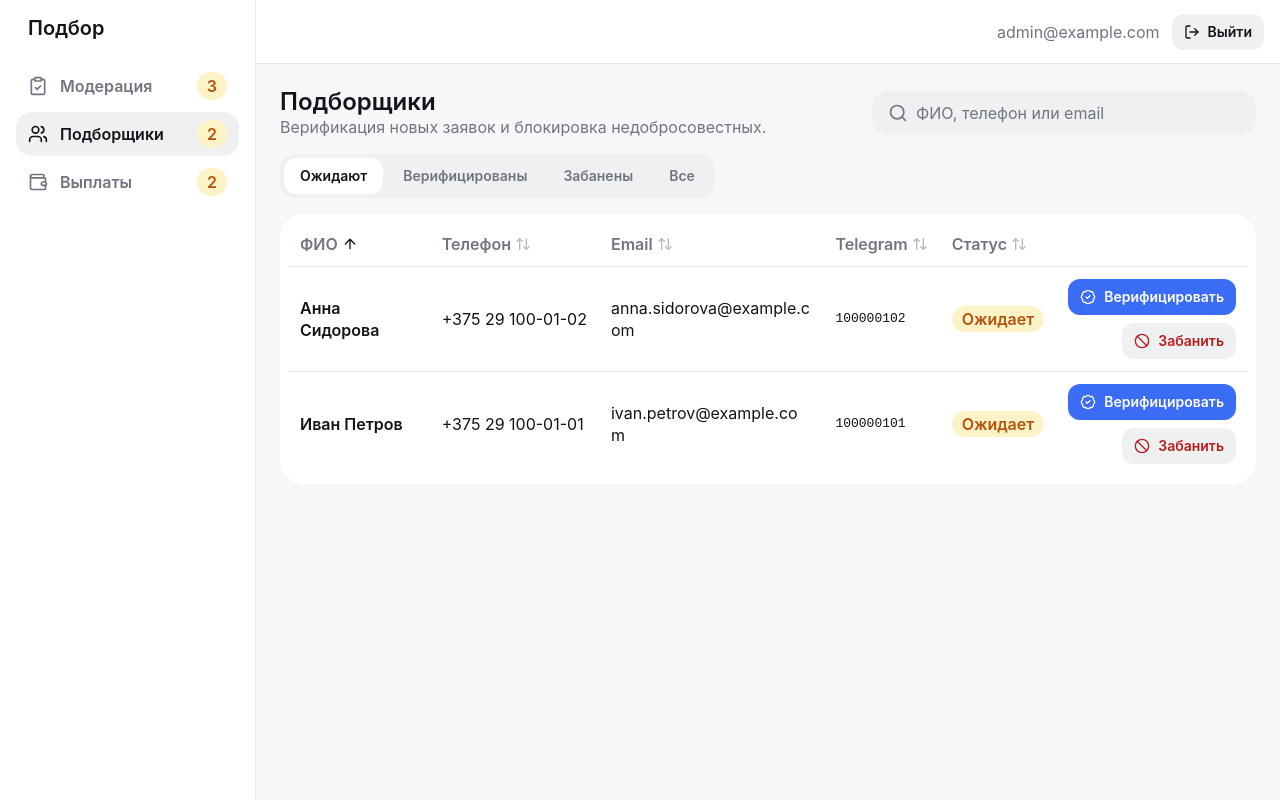
Test case: верификация › диалог с ФИО и телефоном → 200 → запись уходит из «Ожидают», счётчик в меню уменьшается, тост
The image size is (1280, 800).
Expected: the text with test id "nav-count" reads "2", left=207, top=124, right=217, bottom=144
Click the button "Верифицировать" in the row of "Иван Петров" at [1152, 402], box left=1068, top=384, right=1236, bottom=420
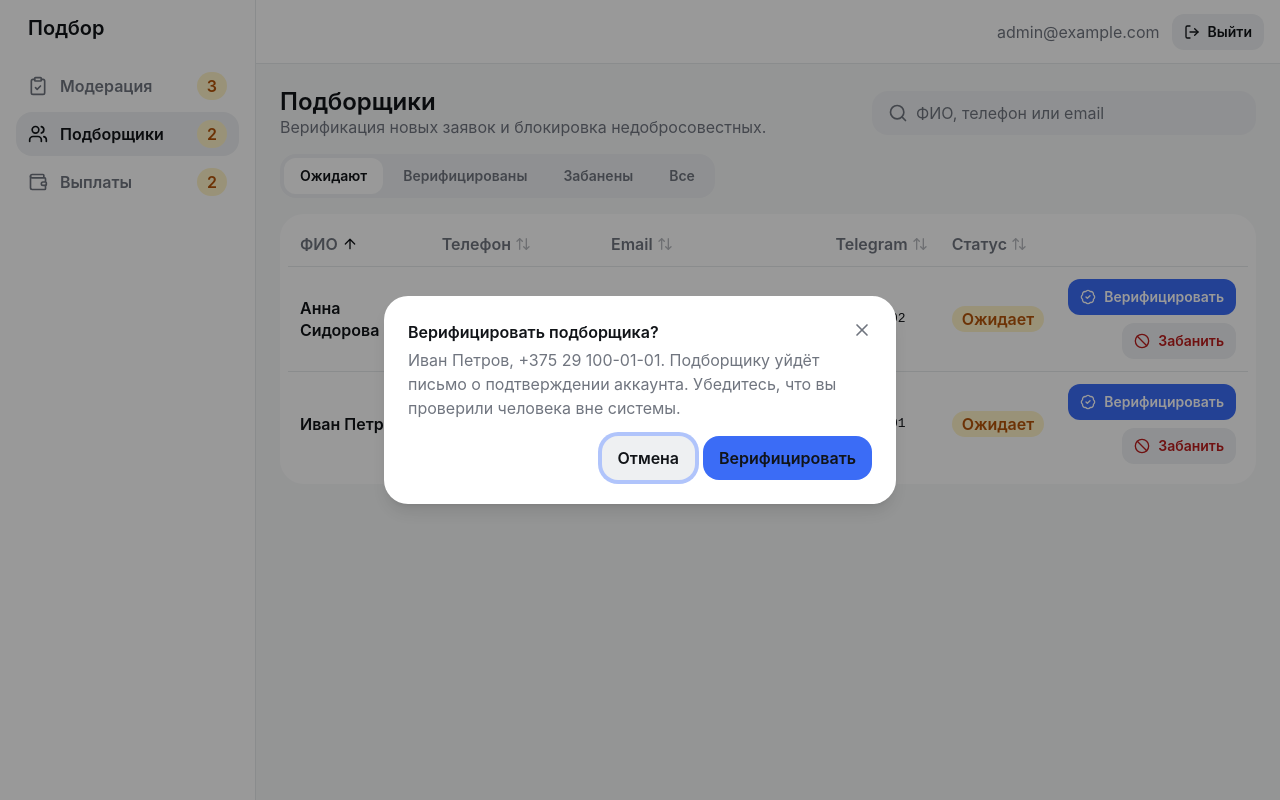
Expected: the text "Иван Петров, +375 29 100-01-01" is shown, left=408, top=350, right=836, bottom=418
Click the button "Верифицировать" at [788, 458], box left=703, top=436, right=872, bottom=480
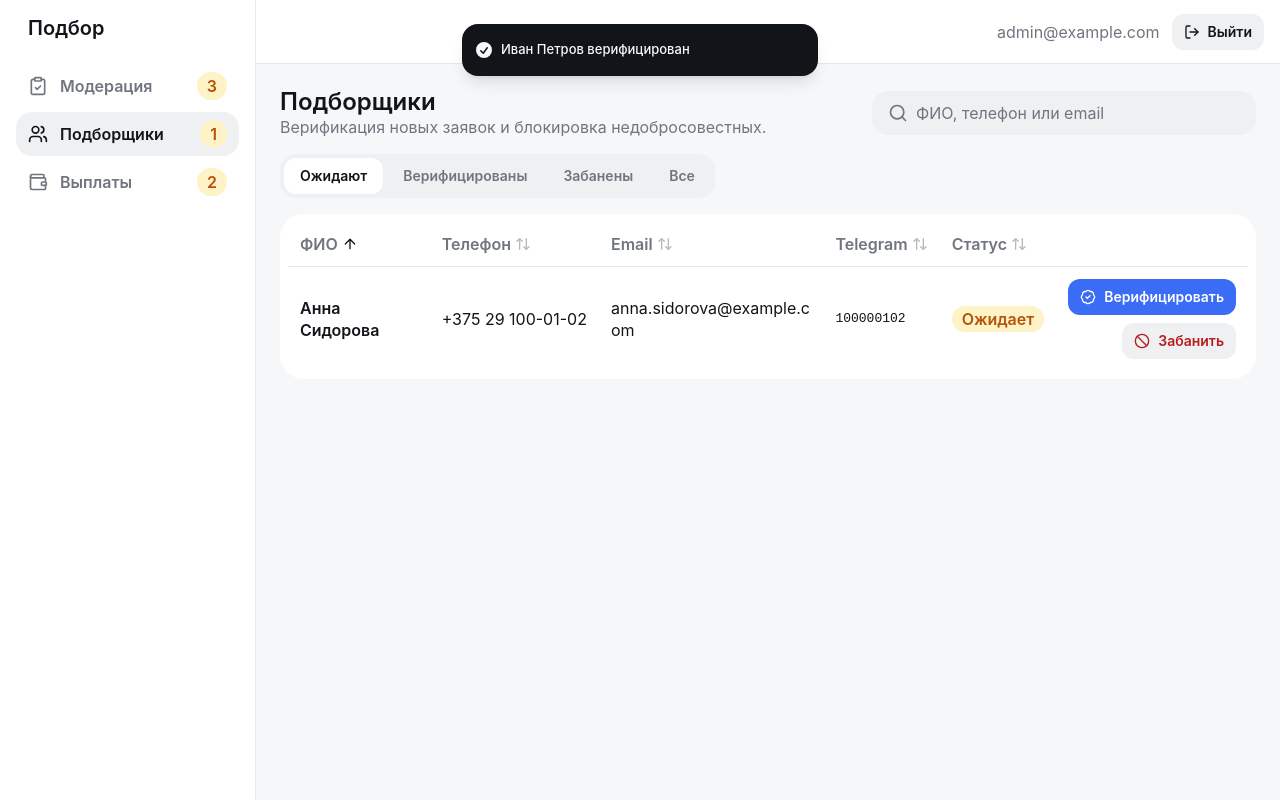
Expected: the dialog is gone
Expected: the text "Иван Петров верифицирован" is shown, left=501, top=40, right=690, bottom=60
Expected: the text with test id "nav-count" reads "1", left=210, top=124, right=217, bottom=144
